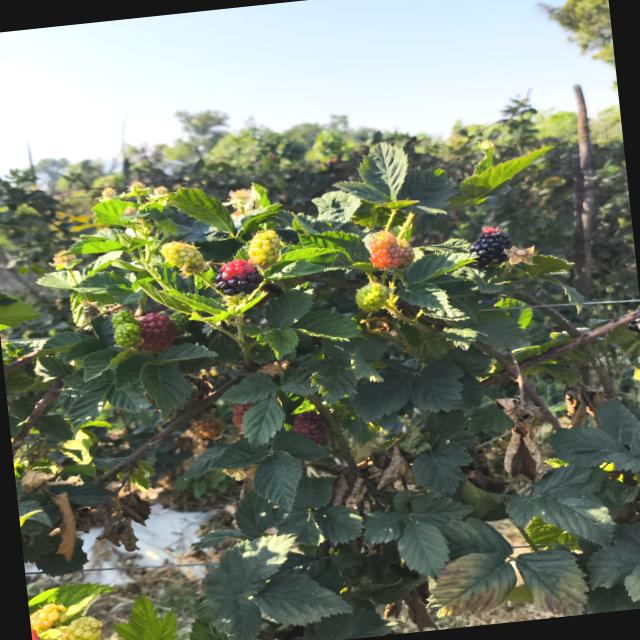maduro: (468, 227, 512, 266)
marron: (214, 258, 264, 296)
naranja: (140, 313, 175, 350), (369, 230, 403, 268), (291, 410, 328, 444), (191, 414, 222, 438), (397, 234, 415, 270), (232, 403, 252, 430)
verde: (160, 241, 204, 276), (247, 229, 283, 264), (355, 282, 388, 311), (114, 322, 142, 347), (169, 311, 189, 337), (111, 310, 138, 328)
